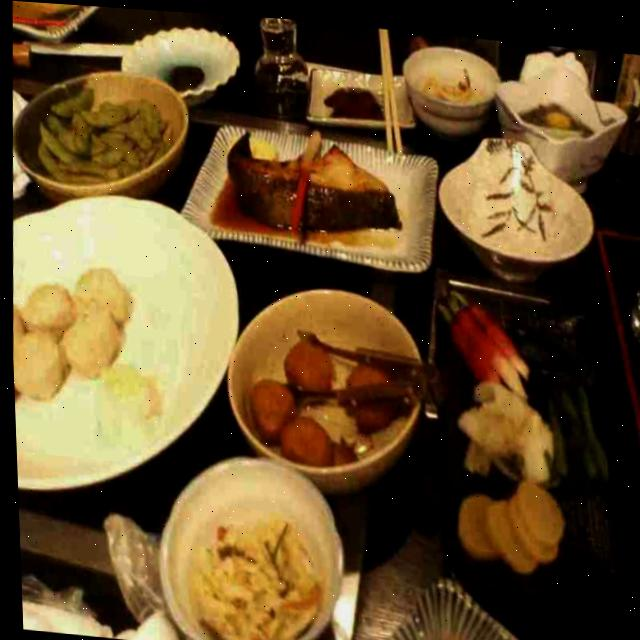熟制海鲜: (212, 108, 411, 248)
